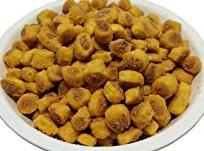bhakarwadi: (3, 1, 200, 138)
